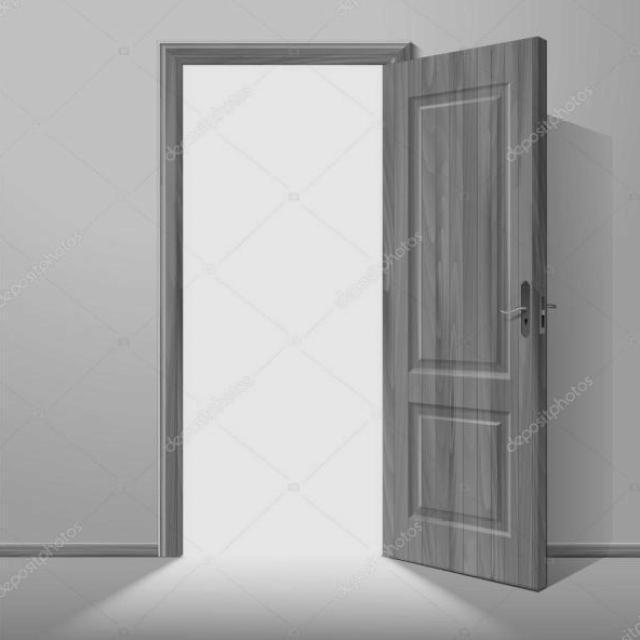door: (380, 35, 549, 591)
